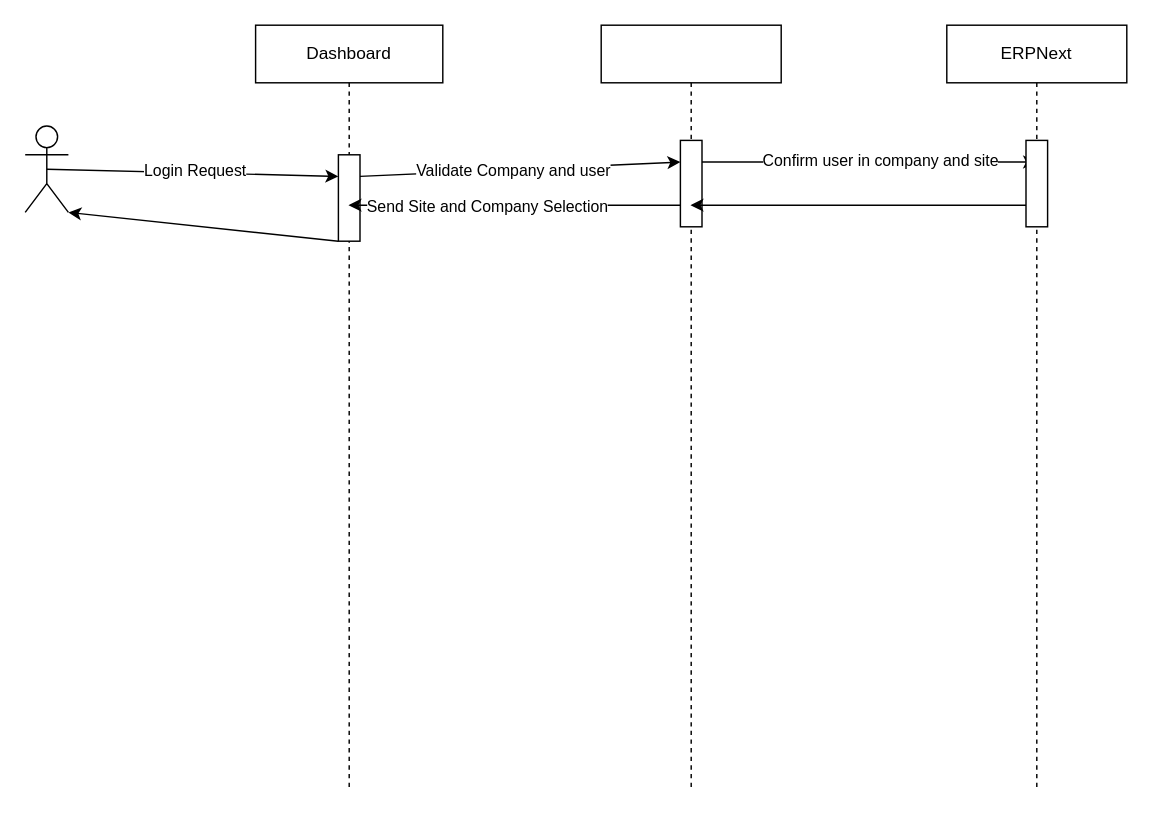
Image size: 1152x814. Some labels were removed from this diagram. Each missing label, with the box of its shape:
Actor: (24, 125, 68, 212)
Backend: (600, 24, 781, 788)
